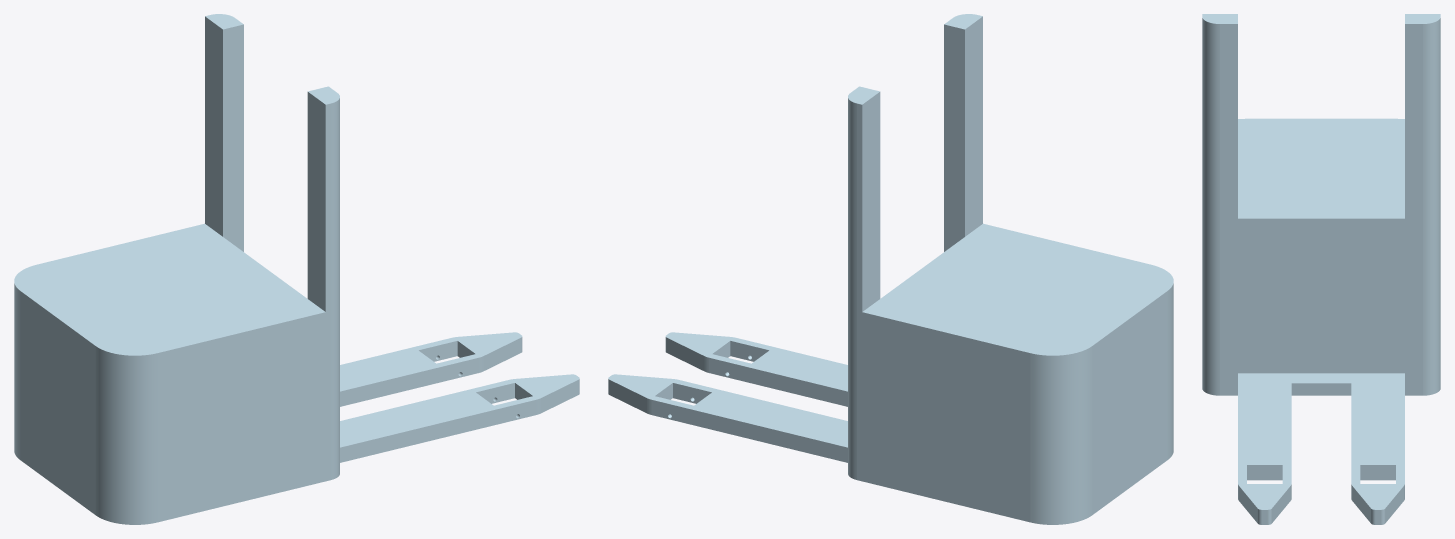
File: EVX_14_base.dae
The picture shows the model from 3 angles, left to right: view 1: azimuth 30°, elevation 25°; view 2: azimuth 150°, elevation 25°; view 3: azimuth 270°, elevation 25°; orthographic projection.
Parts seen in each view (by area): view 1: ID2; view 2: ID2; view 3: ID2.
Part boxes in pixels (box(x1,y1,x2,y2)): ID2: box(14, 14, 579, 524); ID2: box(608, 14, 1173, 524); ID2: box(1202, 14, 1440, 524).
Size of the model in its own units: 1.88 by 0.8 by 1.38.
